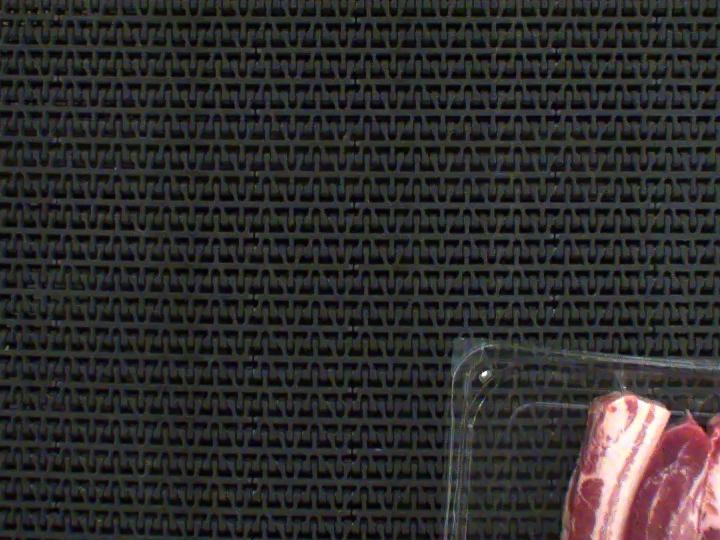packaging-error: (611, 364, 651, 402)
